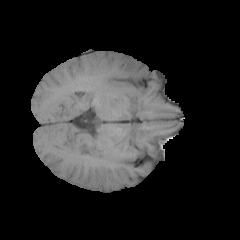glioma: (101, 56, 151, 97)
